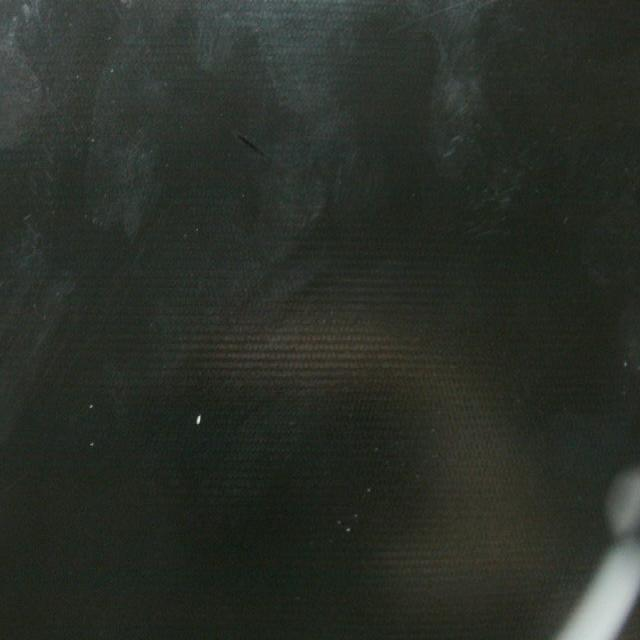scratch: (232, 127, 270, 165)
very small scratch: (194, 405, 204, 435)
